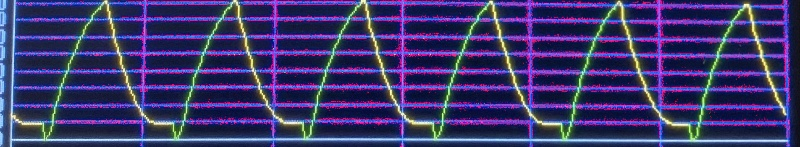leakage: (13, 0, 777, 147)
